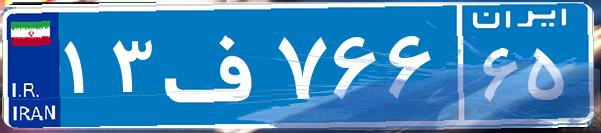1: (57, 26, 110, 107)
3: (110, 28, 158, 105)
5: (525, 38, 570, 115)
6: (385, 28, 445, 110), (330, 28, 385, 110), (475, 38, 525, 113)
7: (273, 28, 330, 110)
ف: (158, 15, 273, 115)
